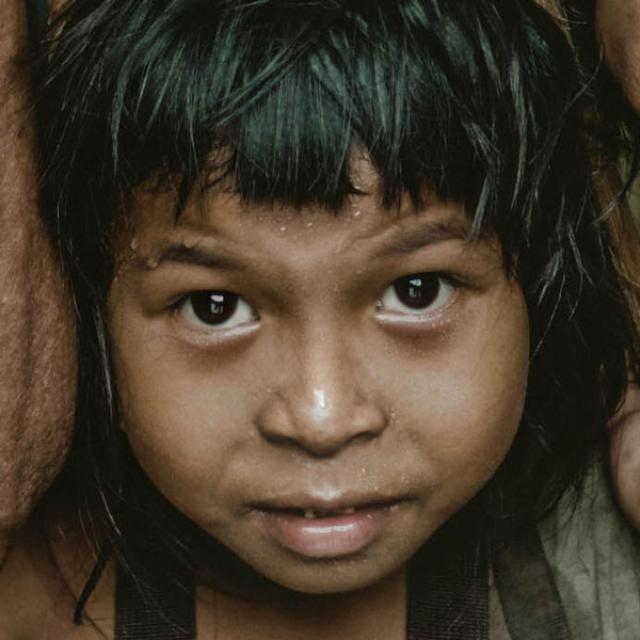face: (76, 30, 588, 608)
